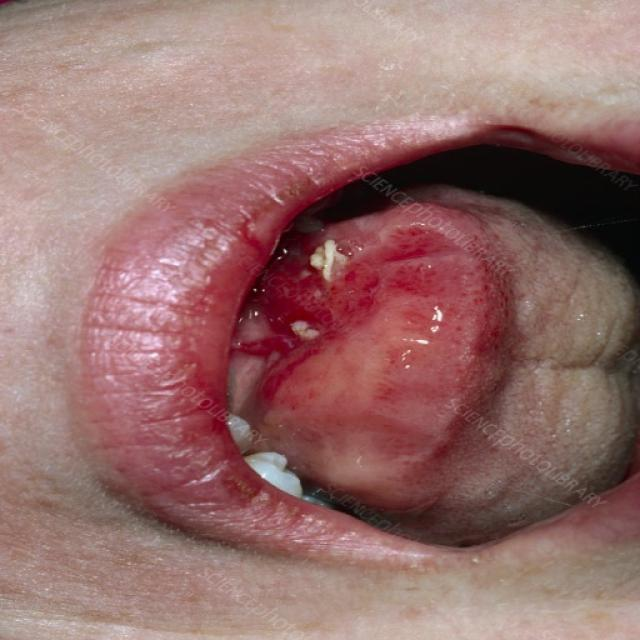cancer-detection: (232, 219, 452, 409)
processing_area: (221, 192, 639, 543)
